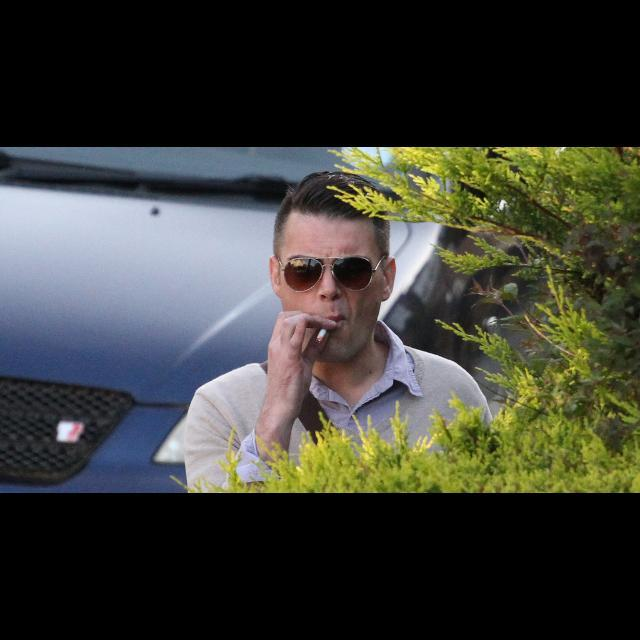rokok: (315, 324, 327, 344)
